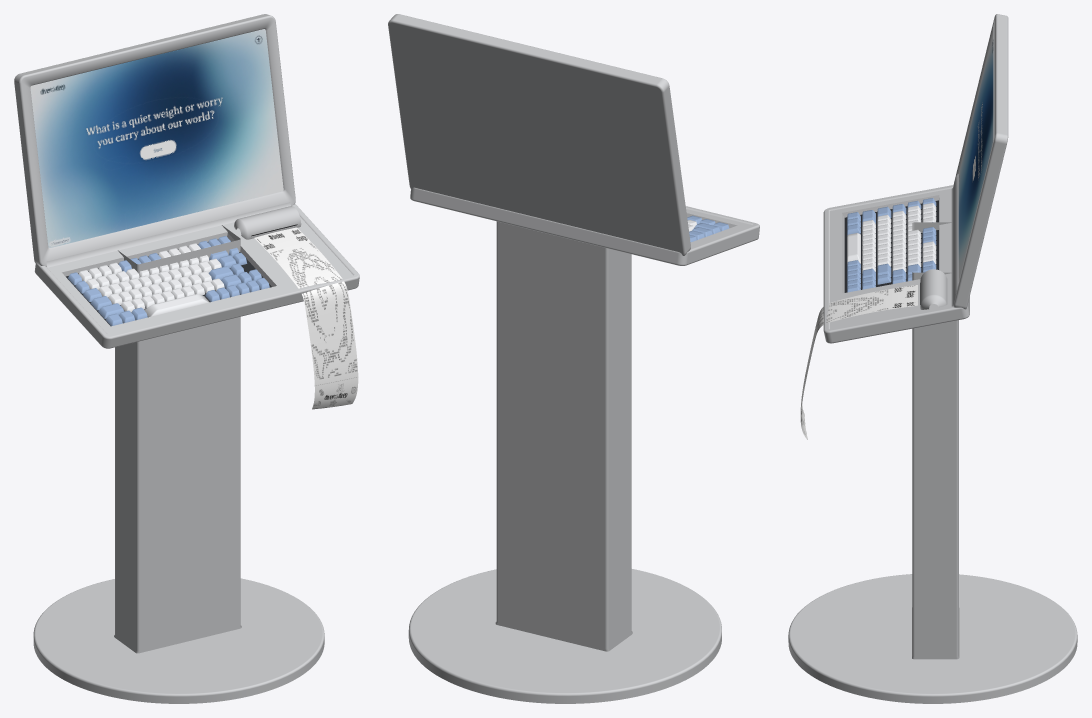
The model's file is dive_deep_kiosk.obj.
The picture shows the model from 3 angles, left to right: view 1: azimuth 30°, elevation 25°; view 2: azimuth 150°, elevation 25°; view 3: azimuth 270°, elevation 25°; orthographic projection. The views are drawn at different scales.
Visible parts, largest first — view 1: 02_Pedestal_Column, 05_Screen_UI_Display, 01_Circular_Base_Plate, 04_Display_Bezel_Housing, 03_Console_Deck_Housing, 08_Thermal_Receipt_Ribbon, 06A_Keyboard_Keycaps_White, 06B_Keyboard_Keycaps_Blue, 07_Printer_Roller_Housing; view 2: 02_Pedestal_Column, 04_Display_Bezel_Housing, 01_Circular_Base_Plate, 03_Console_Deck_Housing, 06B_Keyboard_Keycaps_Blue; view 3: 01_Circular_Base_Plate, 02_Pedestal_Column, 03_Console_Deck_Housing, 04_Display_Bezel_Housing, 06A_Keyboard_Keycaps_White, 05_Screen_UI_Display, 06B_Keyboard_Keycaps_Blue, 08_Thermal_Receipt_Ribbon, 06_Keyboard_Switch_Plate, 07_Printer_Roller_Housing.
Boxes of the visible parts, x1=… form: 02_Pedestal_Column: x1=114, y1=225, x2=241, y2=653; 05_Screen_UI_Display: x1=30, y1=29, x2=283, y2=247; 01_Circular_Base_Plate: x1=33, y1=578, x2=324, y2=703; 04_Display_Bezel_Housing: x1=14, y1=14, x2=295, y2=267; 03_Console_Deck_Housing: x1=34, y1=204, x2=359, y2=348; 08_Thermal_Receipt_Ribbon: x1=254, y1=227, x2=358, y2=409; 06A_Keyboard_Keycaps_White: x1=78, y1=243, x2=224, y2=316; 06B_Keyboard_Keycaps_Blue: x1=67, y1=236, x2=269, y2=326; 07_Printer_Roller_Housing: x1=234, y1=206, x2=301, y2=239; 02_Pedestal_Column: x1=495, y1=221, x2=632, y2=651; 04_Display_Bezel_Housing: x1=388, y1=14, x2=690, y2=255; 01_Circular_Base_Plate: x1=408, y1=569, x2=721, y2=703; 03_Console_Deck_Housing: x1=410, y1=187, x2=759, y2=265; 06B_Keyboard_Keycaps_Blue: x1=687, y1=215, x2=729, y2=242; 01_Circular_Base_Plate: x1=788, y1=574, x2=1077, y2=703; 02_Pedestal_Column: x1=912, y1=222, x2=959, y2=659; 03_Console_Deck_Housing: x1=823, y1=185, x2=969, y2=343; 04_Display_Bezel_Housing: x1=951, y1=14, x2=1008, y2=309; 06A_Keyboard_Keycaps_White: x1=847, y1=203, x2=936, y2=273; 05_Screen_UI_Display: x1=958, y1=35, x2=993, y2=281; 06B_Keyboard_Keycaps_Blue: x1=847, y1=198, x2=936, y2=292; 08_Thermal_Receipt_Ribbon: x1=800, y1=285, x2=917, y2=439; 06_Keyboard_Switch_Plate: x1=844, y1=200, x2=938, y2=292; 07_Printer_Roller_Housing: x1=920, y1=269, x2=947, y2=309.
Size of what is drawn, in the model's own units: 0.58 by 1.24 by 0.5699.
Materials: 7 (2 with a texture image).
